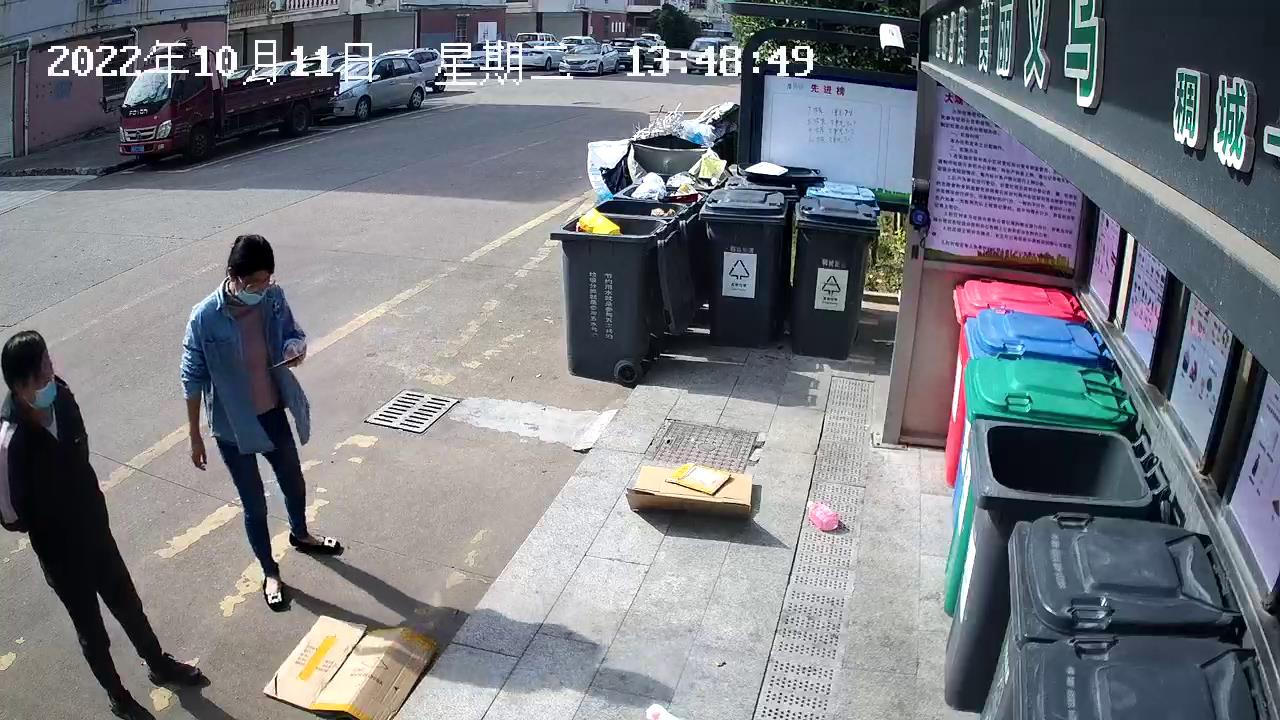person: (1, 327, 208, 720)
suliaozhipin: (801, 497, 842, 534)
worker: (172, 226, 350, 613)
zhizhipin: (259, 612, 446, 720), (620, 457, 760, 523)
